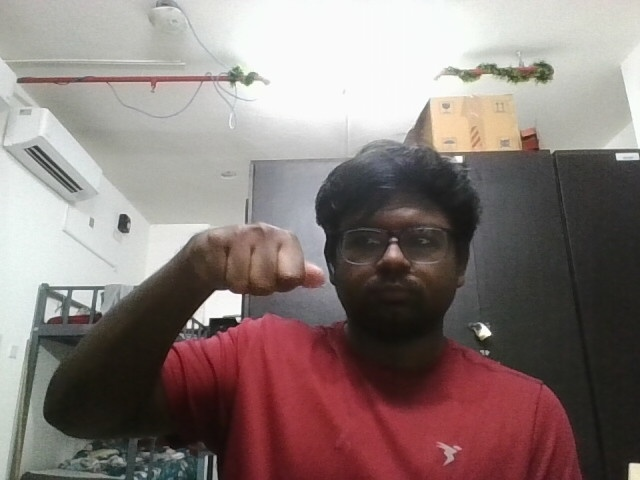Yes: (172, 200, 339, 317)
